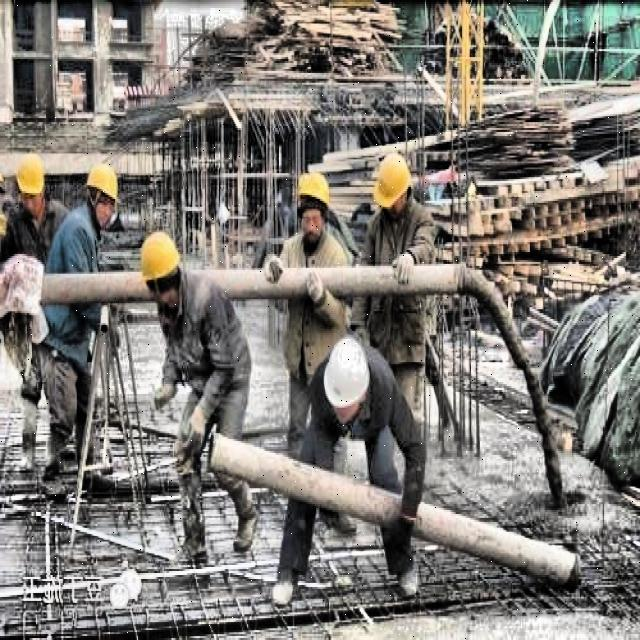helmet: (136, 225, 184, 315), (324, 335, 374, 417), (294, 164, 334, 246), (374, 150, 414, 222), (82, 158, 122, 226), (12, 148, 48, 218)
